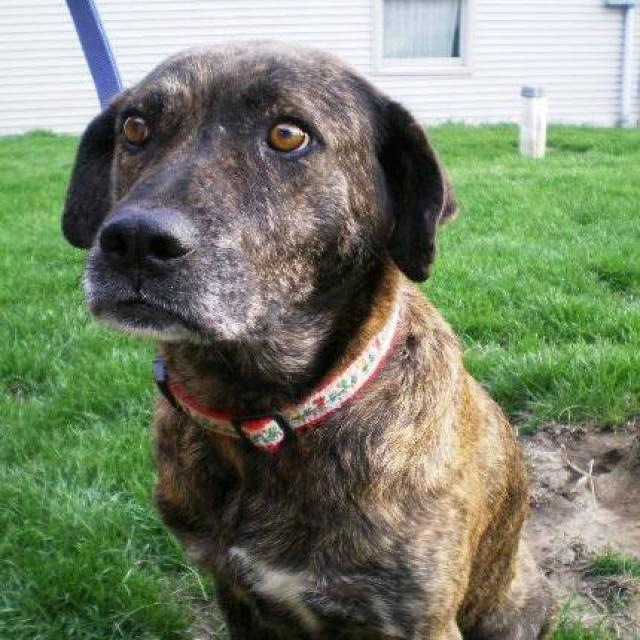dog: (60, 36, 555, 639)
